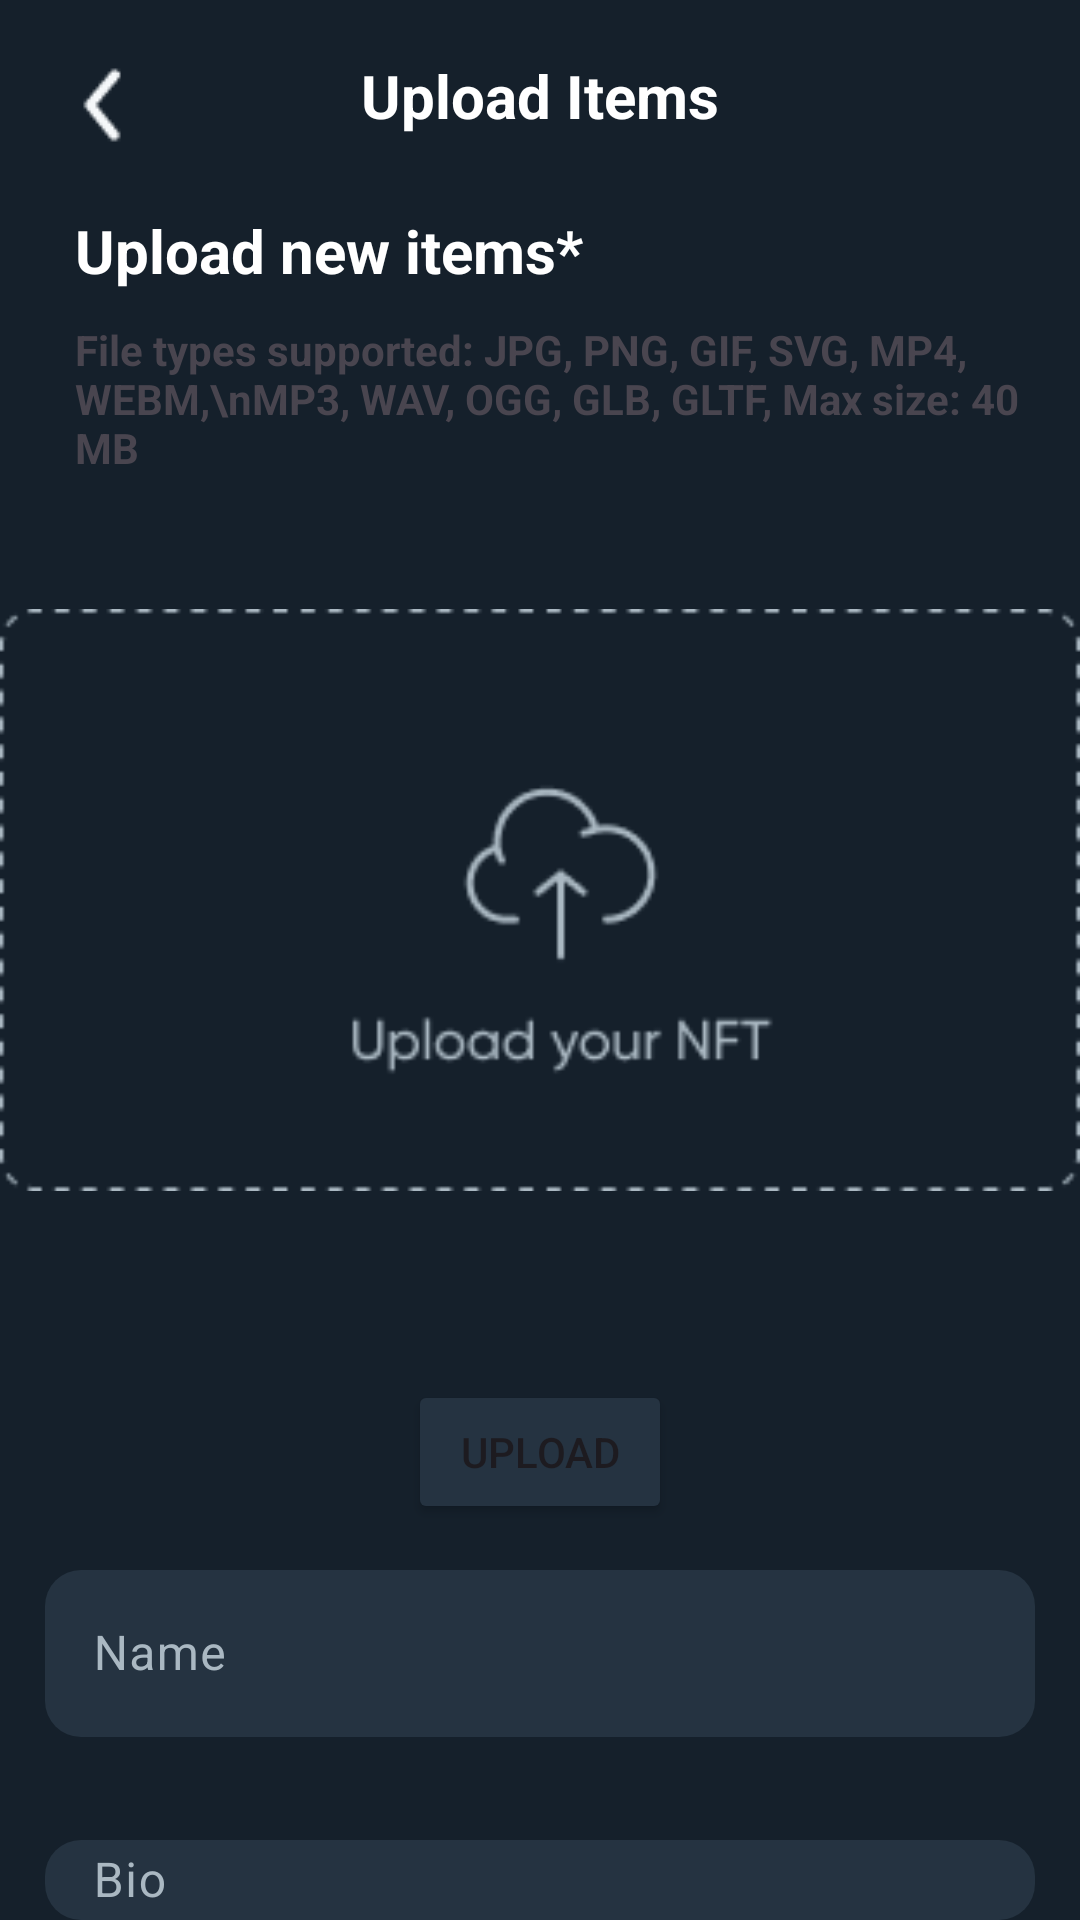

Icons on this 1080px x 1920px Android screen, each with the point to tap as [x,y]:
arrow: [102,105]
